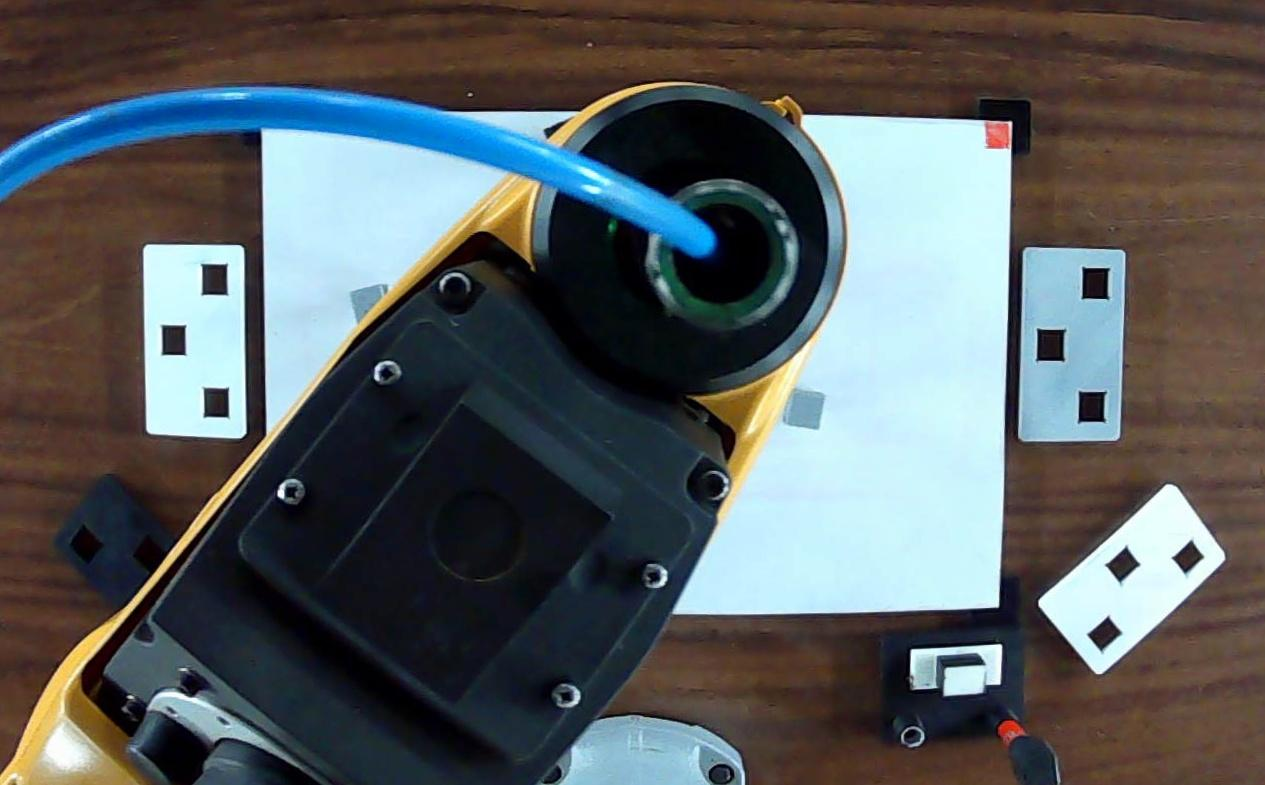pecaCinza: (781, 386, 828, 434)
